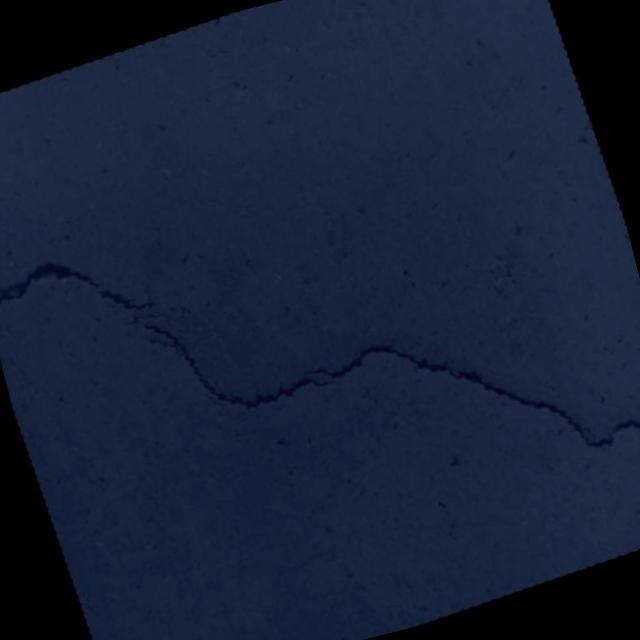crack: (108, 149, 640, 588), (0, 231, 161, 360)
